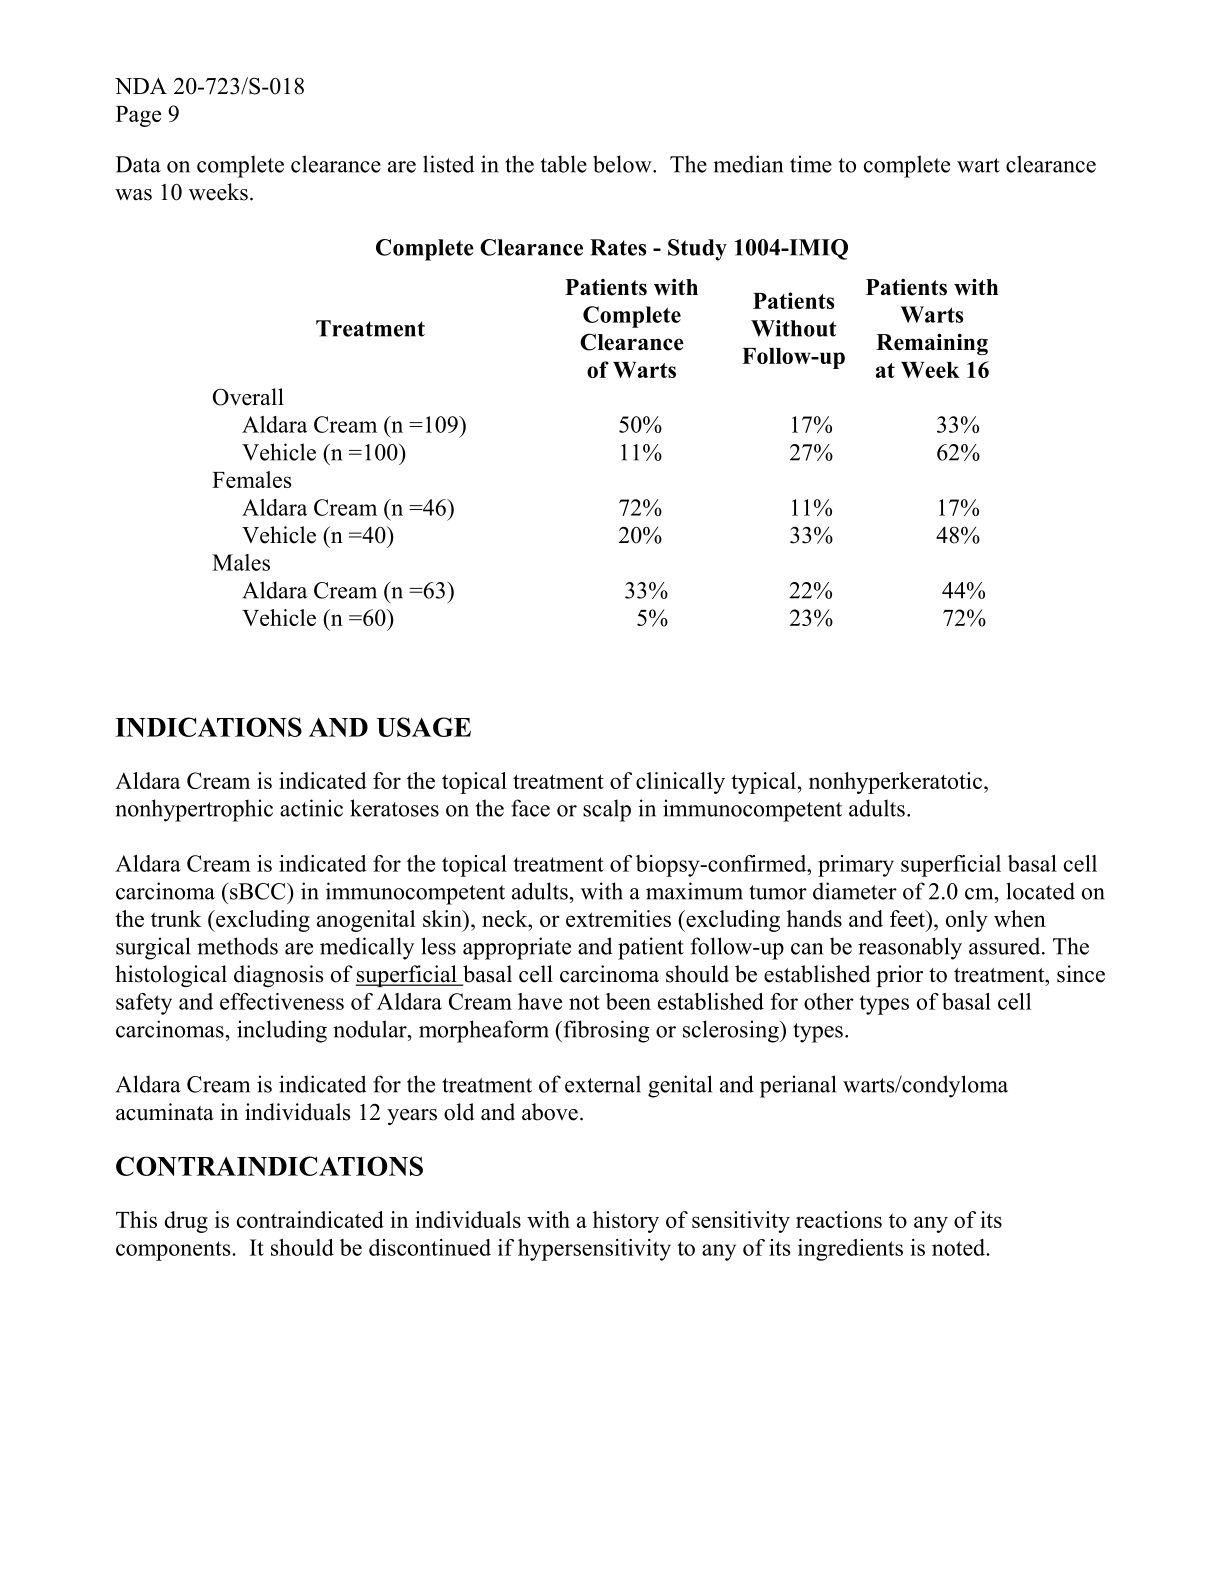nolines: (210, 276, 1000, 634)
